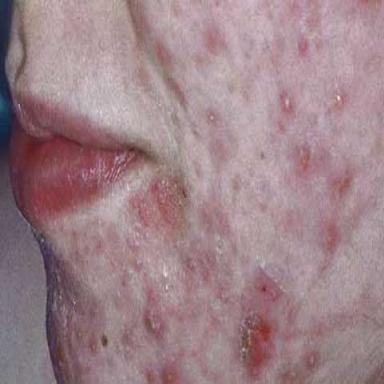acne: (240, 311, 274, 374), (151, 180, 182, 224), (319, 218, 340, 252), (331, 170, 353, 198), (133, 194, 151, 226), (205, 27, 226, 54), (295, 146, 311, 172), (145, 311, 161, 336), (280, 92, 294, 115), (163, 366, 178, 384), (332, 90, 345, 109), (298, 35, 309, 57), (307, 352, 319, 368), (145, 369, 157, 384), (282, 372, 296, 384), (89, 333, 97, 352), (149, 290, 157, 301), (137, 259, 142, 269)
